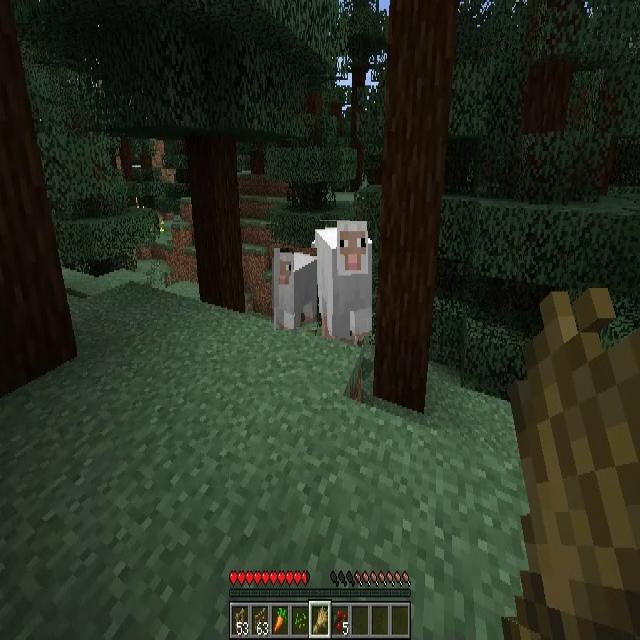sheep: (315, 221, 372, 336), (274, 248, 317, 330)
